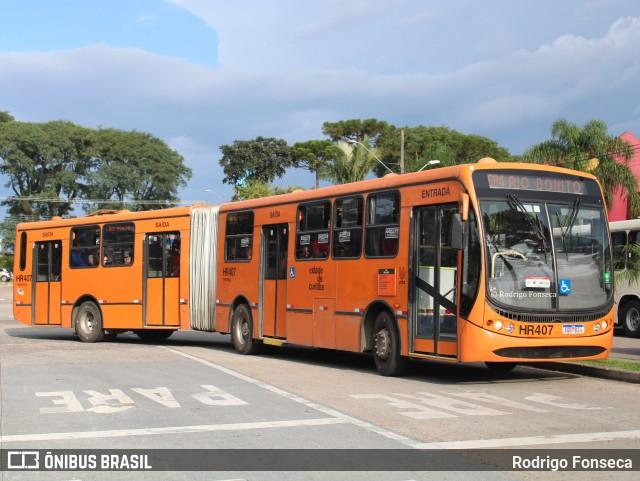RIO BONITO: (506, 173, 585, 198)
